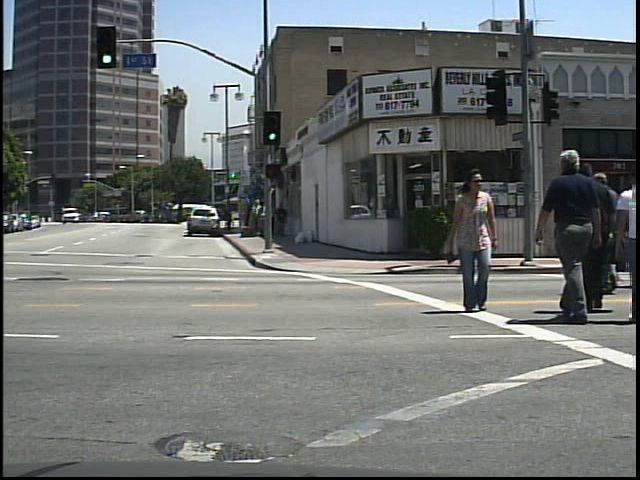person: (545, 143, 609, 323), (448, 168, 504, 317)
